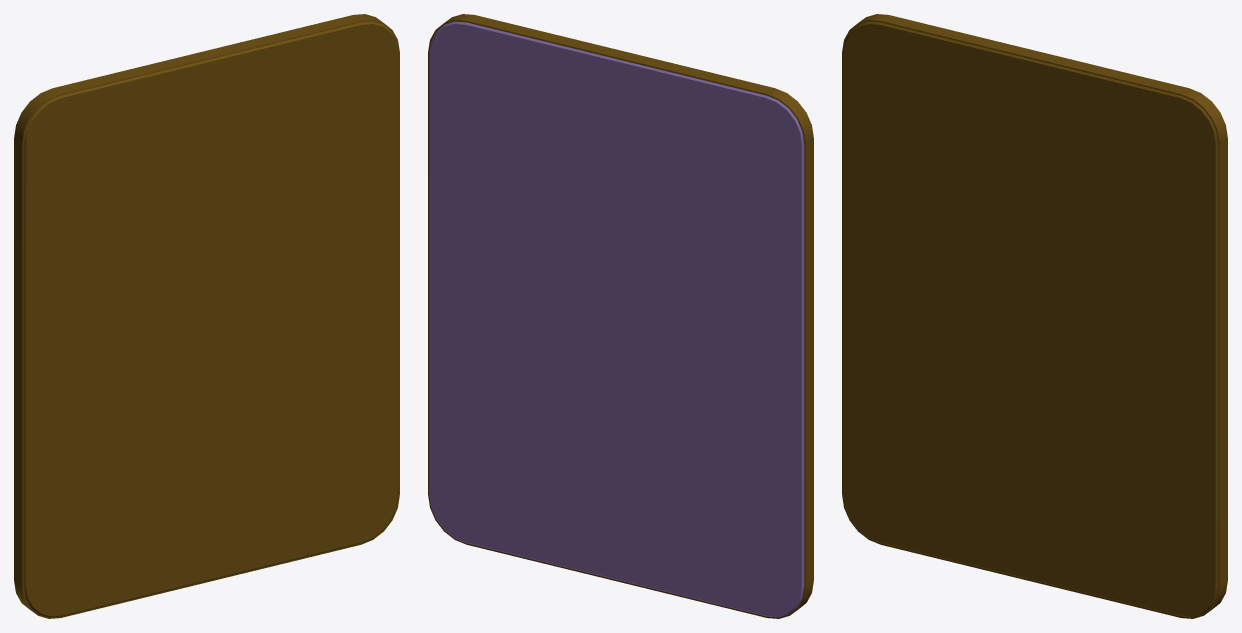
File: testcard.glb
3 views of the same model, side by side, from view 1: azimuth 30°, elevation 25°; view 2: azimuth 150°, elevation 25°; view 3: azimuth 330°, elevation 25° (orthographic).
Parts seen in each view (by area): view 1: front, middle; view 2: back, middle; view 3: front, middle.
Part boxes in pixels (x1,y1,x2,y2): front: (23, 21, 398, 617); middle: (14, 14, 399, 618); back: (429, 21, 804, 617); middle: (428, 14, 813, 618); front: (843, 21, 1218, 617); middle: (842, 14, 1227, 618).
Size of the model in its own units: 1.81 by 2.4 by 0.0843.
